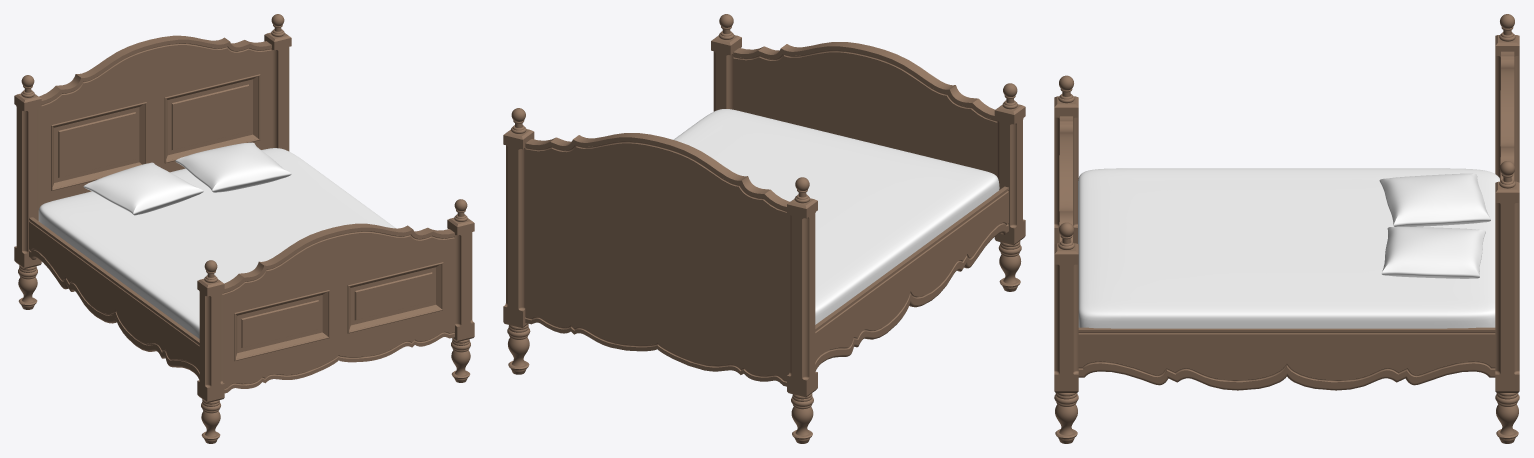
Rendered from 394_アンティーク調ベッド.glb.
3 views of the same model, side by side, from view 1: azimuth 30°, elevation 25°; view 2: azimuth 150°, elevation 25°; view 3: azimuth 270°, elevation 25° (orthographic). The views are drawn at different scales.
Visible parts, largest first — view 1: 394_ベッド, マットレス, 枕 (1), 枕; view 2: 394_ベッド, マットレス; view 3: マットレス, 394_ベッド, 枕, 枕 (1).
Part boxes in pixels (x1=…): 394_ベッド: x1=14, y1=14, x2=474, y2=443; マットレス: x1=38, y1=148, x2=395, y2=338; 枕 (1): x1=175, y1=142, x2=291, y2=192; 枕: x1=83, y1=162, x2=203, y2=215; 394_ベッド: x1=503, y1=14, x2=1025, y2=443; マットレス: x1=673, y1=109, x2=999, y2=324; マットレス: x1=1078, y1=168, x2=1499, y2=328; 394_ベッド: x1=1054, y1=14, x2=1519, y2=443; 枕: x1=1379, y1=173, x2=1490, y2=226; 枕 (1): x1=1381, y1=226, x2=1485, y2=278.
Size of the model in its own units: 1.7 by 1.43 by 2.13.
